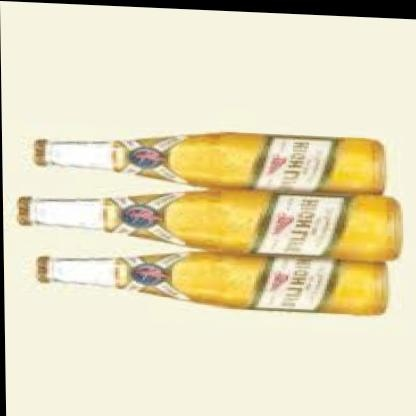trash: (17, 190, 401, 260), (36, 252, 386, 314), (34, 132, 384, 193)
